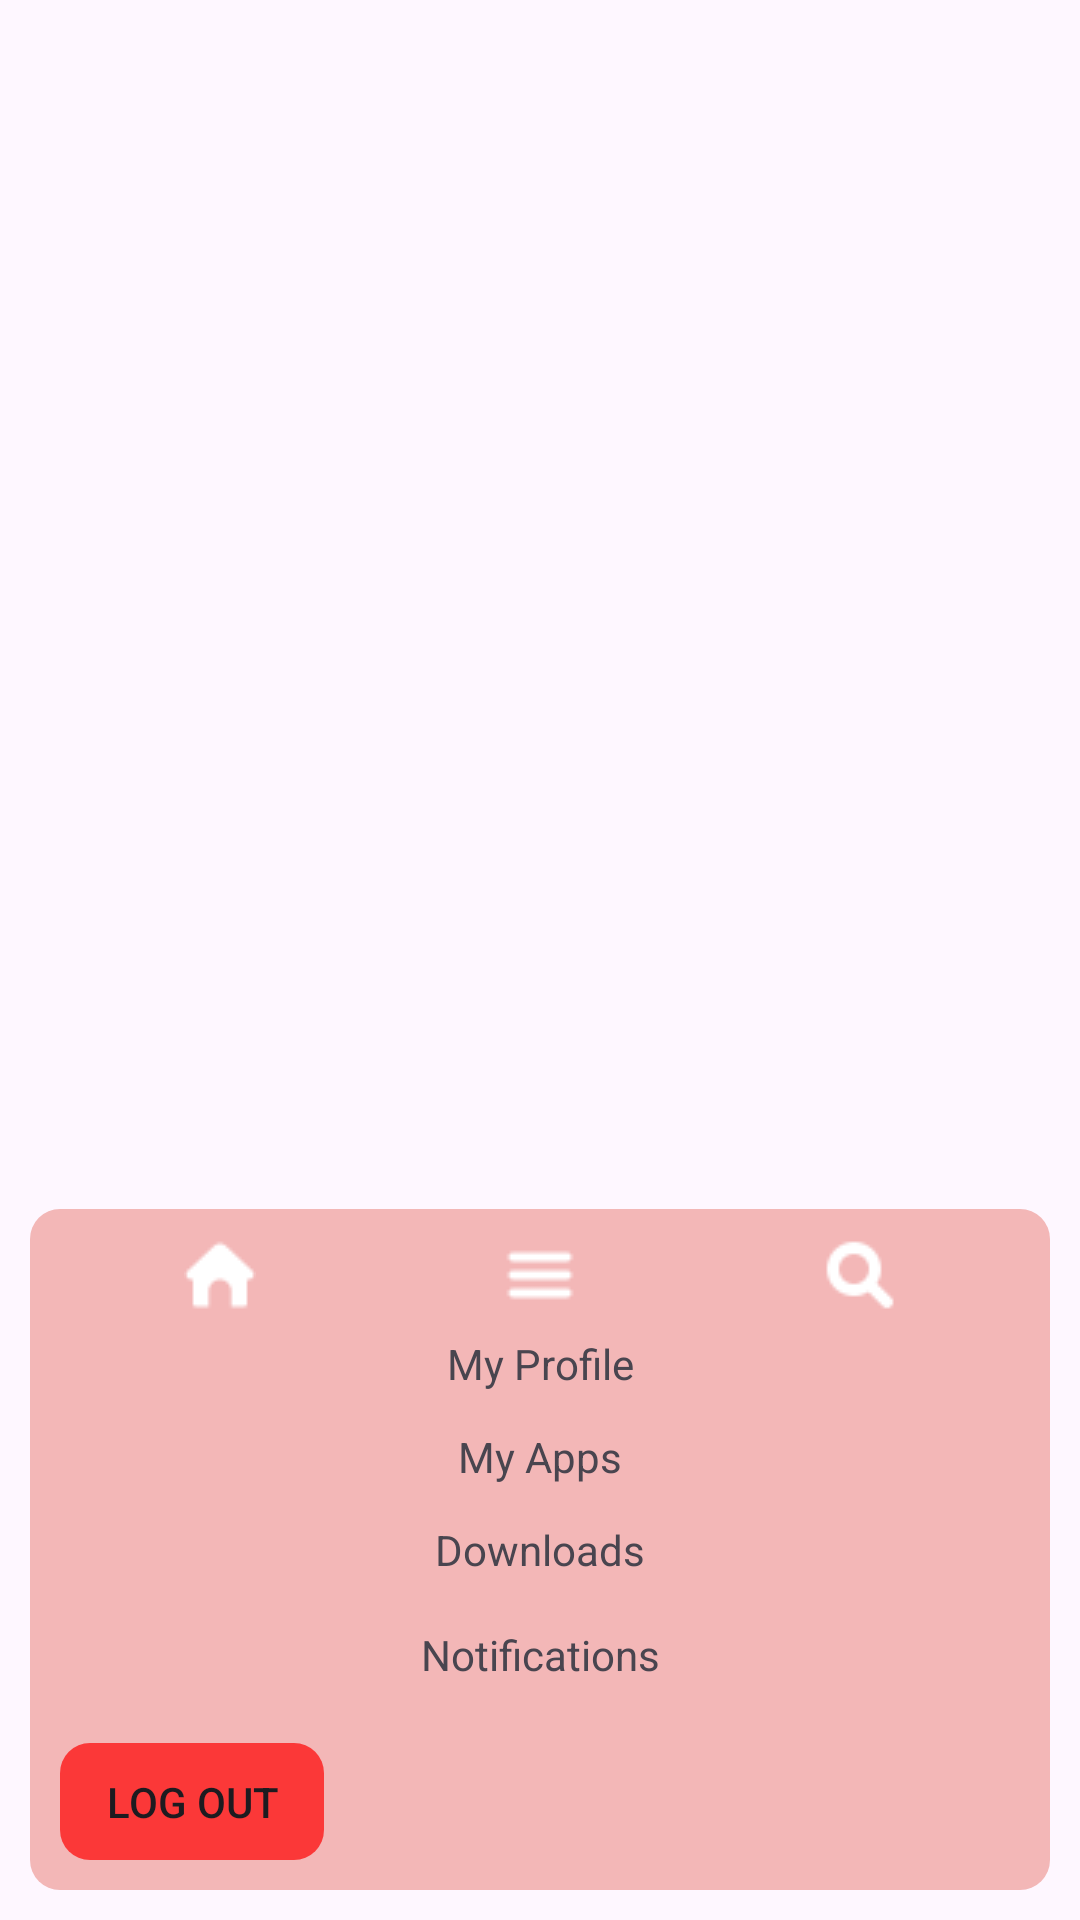

Named icons in this screenshot (1080*1920) and their bounding boxes, (x1, y1, x2, y2):
home: (186, 1243, 254, 1308)
menu: (508, 1252, 572, 1299)
search: (827, 1242, 893, 1308)
